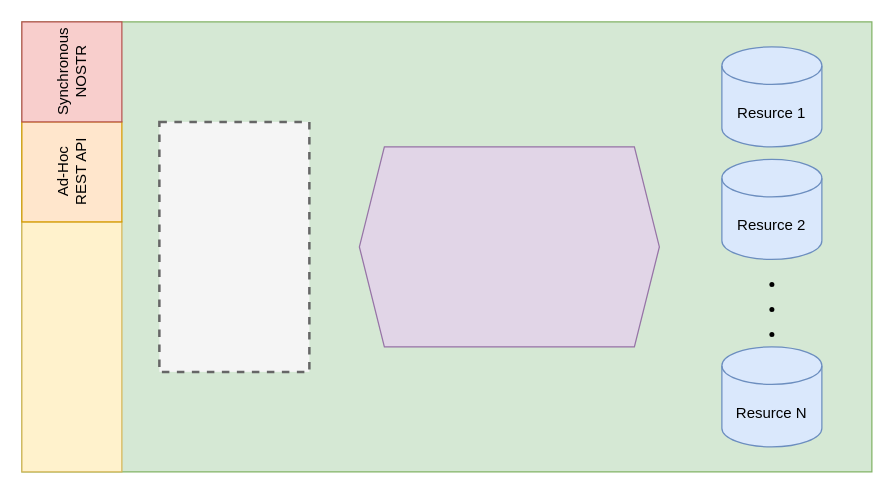
The diagram is 894 pixels wide and 494 high, and some of its shapes have lost their labels. Here are the shapes that lost their labels. From the top down, the centre of each, then its label:
At [234,246]: "Internal NOSTR Relay".
At [508,246]: "Business Logic".
At [71,346]: "NOSTR".
